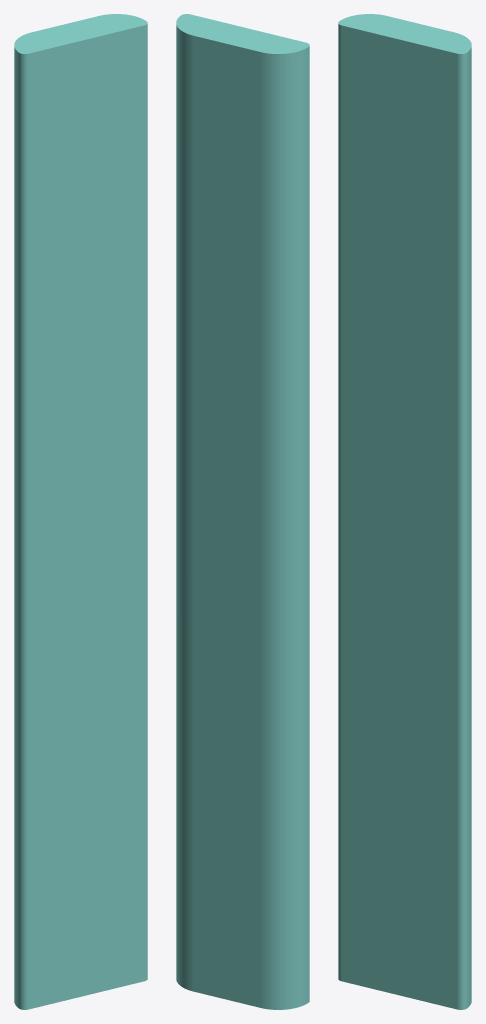
File: goal_light.dae
The picture shows the model from 3 angles, left to right: view 1: azimuth 30°, elevation 25°; view 2: azimuth 150°, elevation 25°; view 3: azimuth 330°, elevation 25°; orthographic projection.
Parts seen in each view (by area): view 1: 5c4fd30abc9eec15302f4db4; view 2: 5c4fd30abc9eec15302f4db4; view 3: 5c4fd30abc9eec15302f4db4.
Part boxes in pixels (x1,y1,x2,y2): 5c4fd30abc9eec15302f4db4: (14,14,147,1009); 5c4fd30abc9eec15302f4db4: (176,14,309,1009); 5c4fd30abc9eec15302f4db4: (338,14,471,1009).
Bounding box in the file's own units: 0.021 × 0.006 × 0.15.
